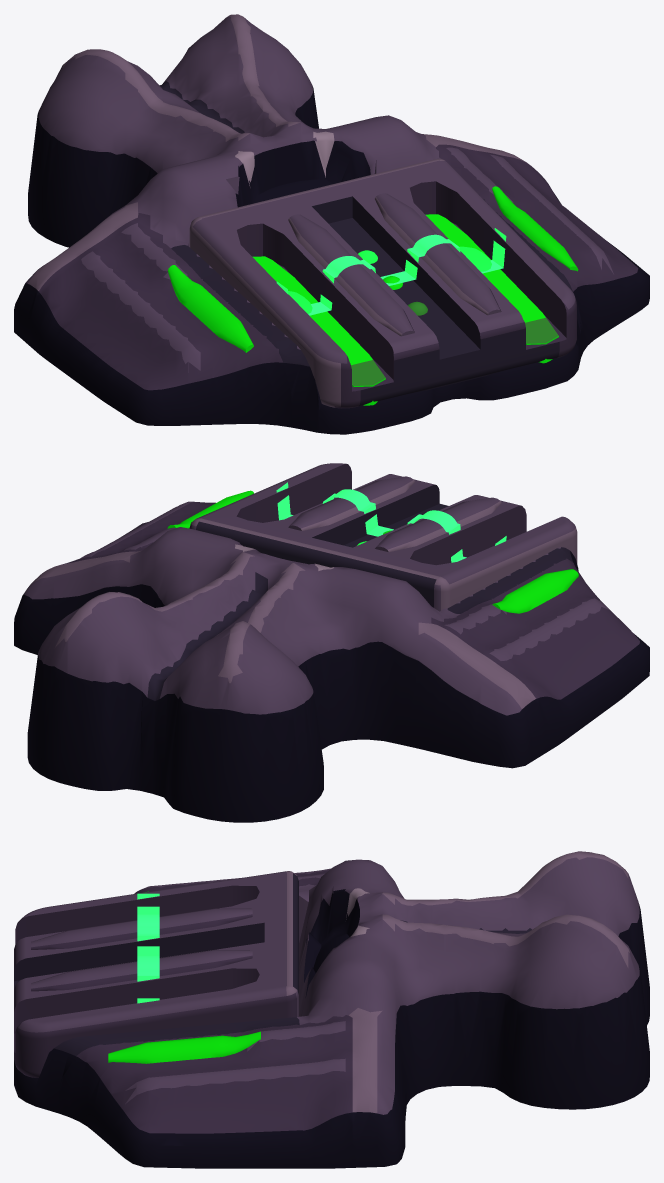
File: purple_beacon_9.glb
3 renders of one model, top to bottom at view 1: azimuth 30°, elevation 25°; view 2: azimuth 150°, elevation 25°; view 3: azimuth 270°, elevation 25°, orthographic. The views are drawn at different scales.
Parts seen in each view (by area): view 1: body, block, ridge1, ridge-1, floor-1, floor1, strip1, bar, strip-1; view 2: body, block, ridge1, ridge-1, bar, strip1, strip-1; view 3: body, block, ridge-1, ridge1, strip-1, bar.
Boxes of the visible parts, box(x1,y1,x2,y2) form: body: box(14, 14, 649, 434); block: box(189, 158, 576, 408); ridge1: box(375, 193, 501, 315); ridge-1: box(288, 214, 414, 336); floor-1: box(252, 256, 385, 405); floor1: box(425, 214, 558, 363); strip1: box(168, 265, 253, 352); bar: box(276, 228, 506, 315); strip-1: box(492, 186, 578, 271); body: box(14, 501, 649, 822); block: box(189, 463, 577, 611); ridge1: box(288, 476, 414, 530); ridge-1: box(375, 497, 501, 552); bar: box(276, 482, 506, 562); strip1: box(492, 569, 578, 613); strip-1: box(167, 490, 253, 528); body: box(14, 851, 649, 1168); block: box(14, 871, 298, 1077); ridge-1: box(31, 908, 252, 949); ridge1: box(31, 949, 252, 991); strip-1: box(108, 1031, 260, 1063); bar: box(137, 893, 159, 1003).
Size of the model in its own units: 24 by 7.25 by 26.
